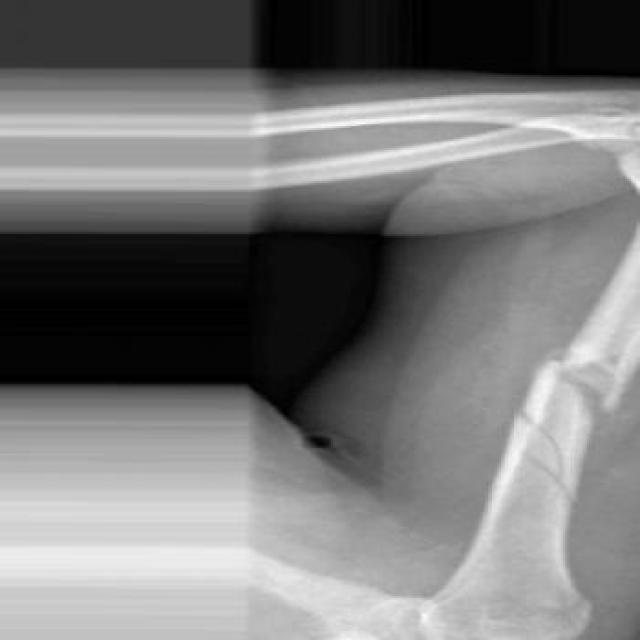Fracture: (486, 414, 622, 515), (504, 341, 640, 416)
